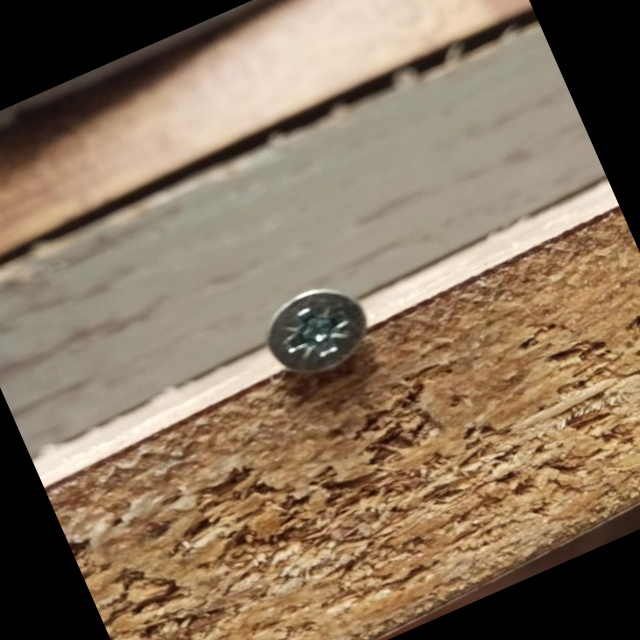pozidriv: (255, 274, 380, 388)
